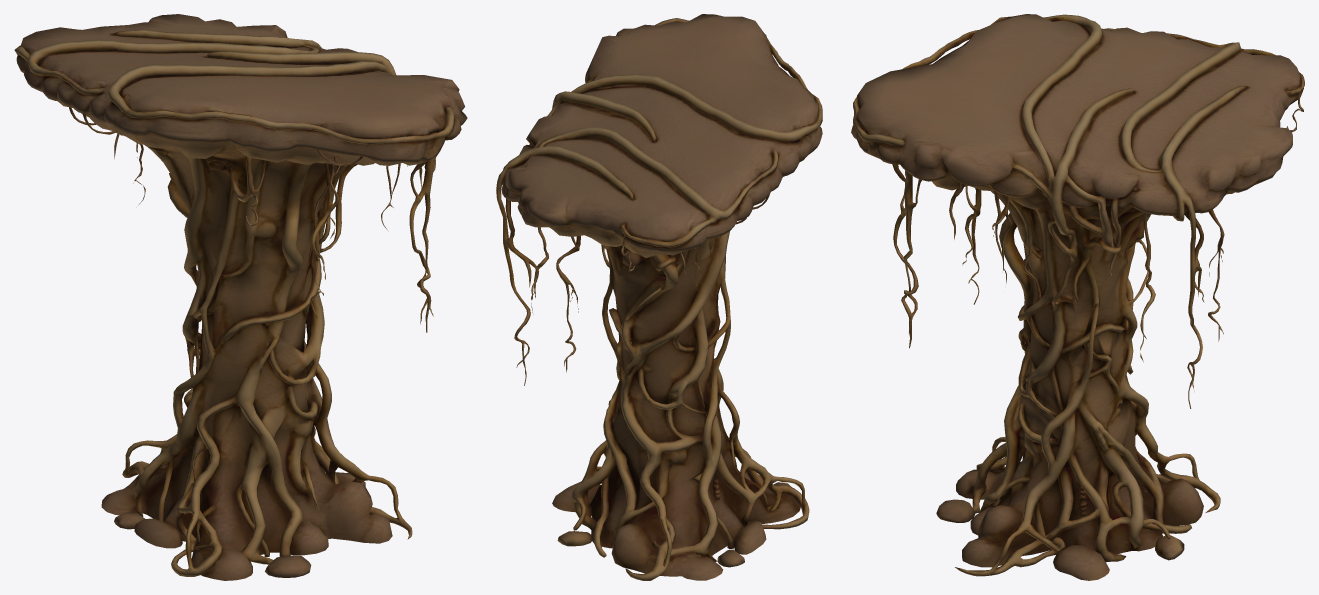
The model's file is jun_hanging_root_curtain.glb.
The picture shows the model from 3 angles, left to right: view 1: azimuth 30°, elevation 25°; view 2: azimuth 150°, elevation 25°; view 3: azimuth 270°, elevation 25°; orthographic projection. The views are drawn at different scales.
Visible parts, largest first — view 1: tripo_node_cadc6c69-84e1-40cb-8351-e614b4902560; view 2: tripo_node_cadc6c69-84e1-40cb-8351-e614b4902560; view 3: tripo_node_cadc6c69-84e1-40cb-8351-e614b4902560.
Boxes of the visible parts, left/top/right/bottom form: tripo_node_cadc6c69-84e1-40cb-8351-e614b4902560: left=14, top=14, right=467, bottom=580; tripo_node_cadc6c69-84e1-40cb-8351-e614b4902560: left=496, top=14, right=822, bottom=580; tripo_node_cadc6c69-84e1-40cb-8351-e614b4902560: left=851, top=14, right=1304, bottom=580.
Size of the model in its own units: 0.6426 by 0.998 by 0.9043.
Materials: 1 (1 with a texture image).
